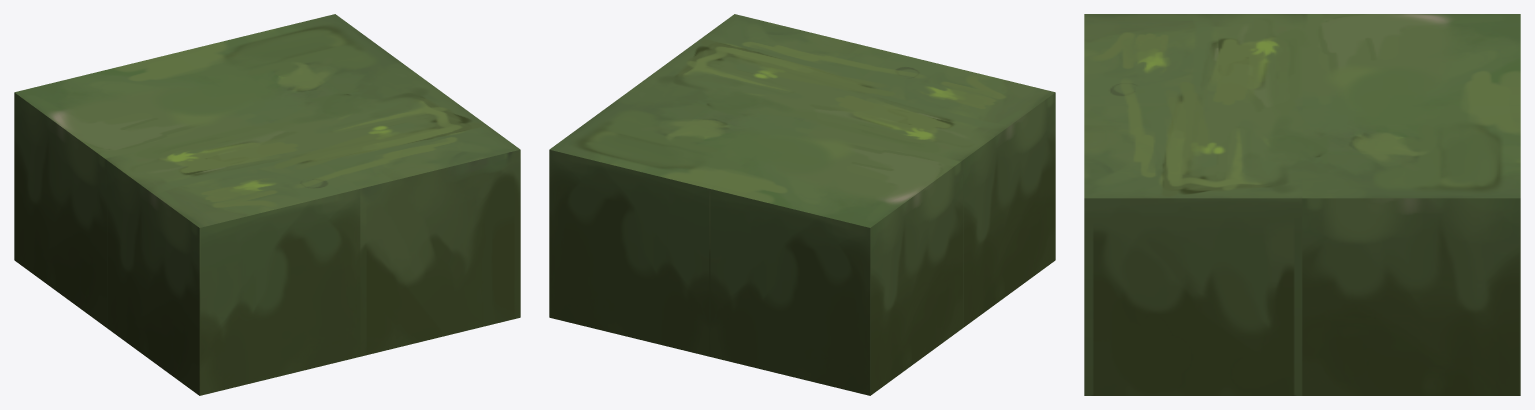
Rendered from FE_road_1_2.fbx.
3 renders of one model, left to right at view 1: azimuth 30°, elevation 25°; view 2: azimuth 150°, elevation 25°; view 3: azimuth 270°, elevation 25°, orthographic. The views are drawn at different scales.
Visible parts, largest first — view 1: FE_road_1_2; view 2: FE_road_1_2; view 3: FE_road_1_2.
Boxes of the visible parts, left/top/right/bottom form: FE_road_1_2: left=14, top=14, right=520, bottom=395; FE_road_1_2: left=549, top=14, right=1055, bottom=395; FE_road_1_2: left=1084, top=14, right=1520, bottom=395.
Size of the model in its own units: 365 by 182 by 365.
